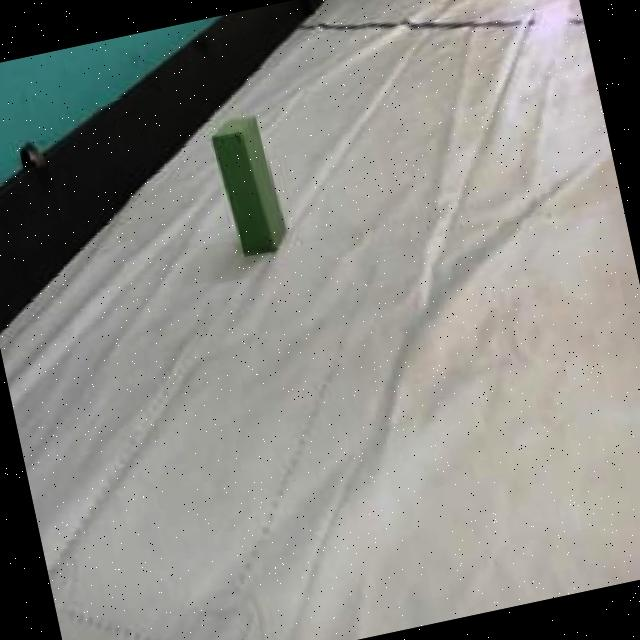greenbox: (207, 112, 291, 263)
